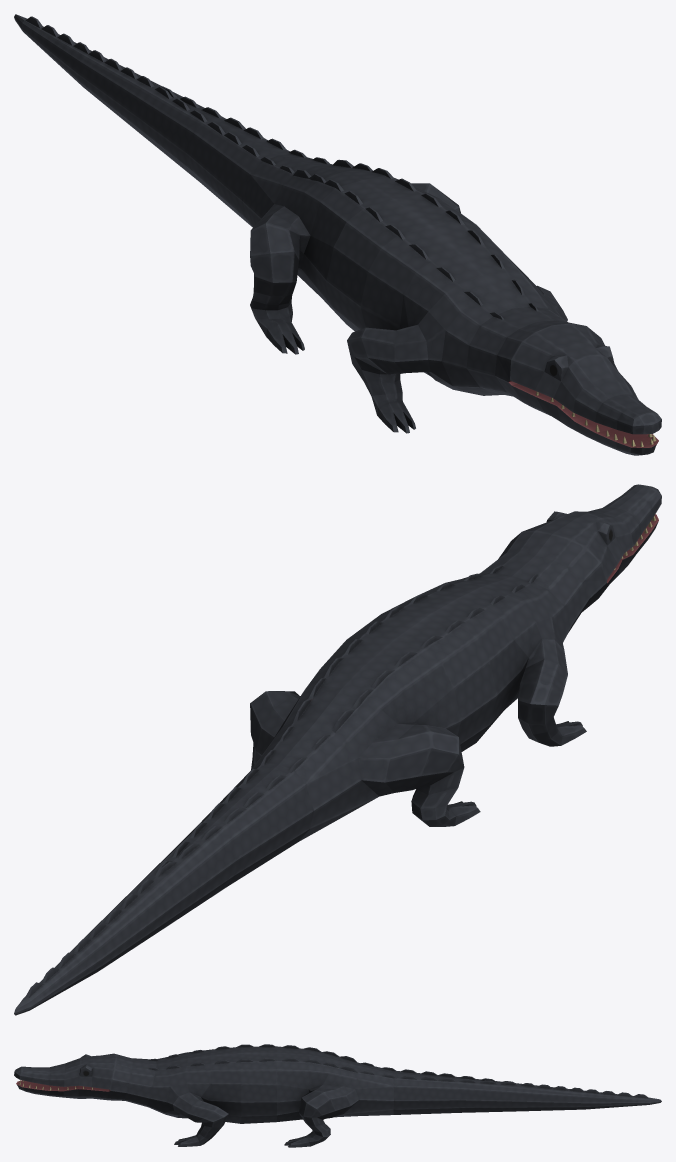
File: 69c45761-2507-4e06-b8cf-f5bfb3438cd1.glb
3 renders of one model, top to bottom at view 1: azimuth 30°, elevation 25°; view 2: azimuth 150°, elevation 25°; view 3: azimuth 270°, elevation 25°, orthographic. The views are drawn at different scales.
Parts seen in each view (by area): view 1: BlackCaiman_mesh; view 2: BlackCaiman_mesh; view 3: BlackCaiman_mesh.
Boxes of the visible parts, <box> form: BlackCaiman_mesh: <box>14,14,661,455</box>; BlackCaiman_mesh: <box>14,484,661,1015</box>; BlackCaiman_mesh: <box>14,1044,661,1147</box>.
Size of the model in its own units: 3.4 by 2.19 by 17.97.
Materials: 1 (1 with a texture image).
